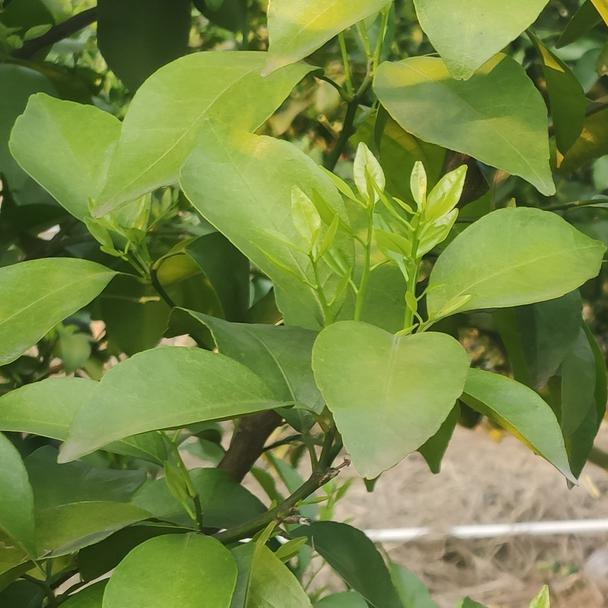shoot: (316, 153, 405, 304), (369, 161, 466, 293), (268, 202, 347, 313)
